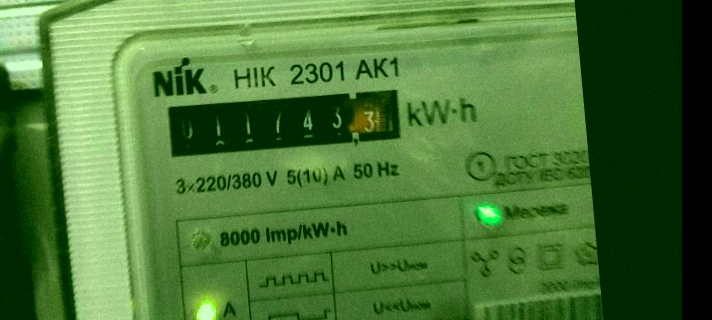0: (178, 113, 194, 142)
1: (239, 108, 253, 137), (210, 110, 222, 138)
3: (328, 102, 344, 131), (359, 109, 376, 135)
4: (298, 105, 314, 133)
7: (268, 105, 285, 134)
screen: (154, 74, 413, 171)
